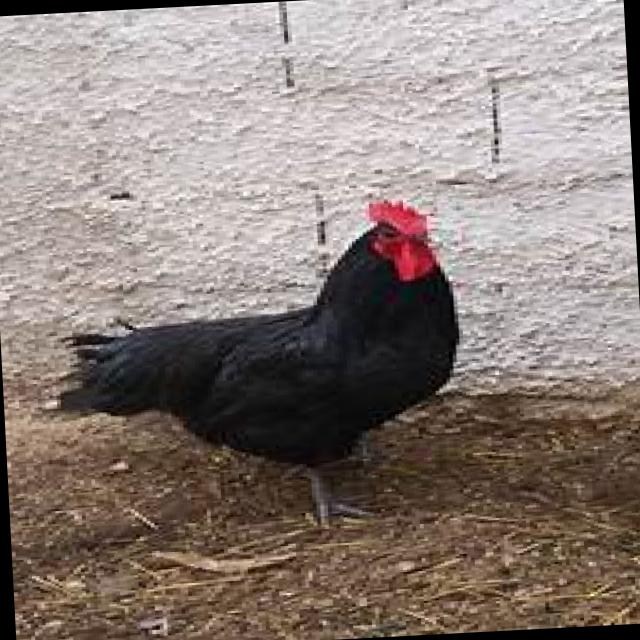animal: (39, 194, 470, 544)
